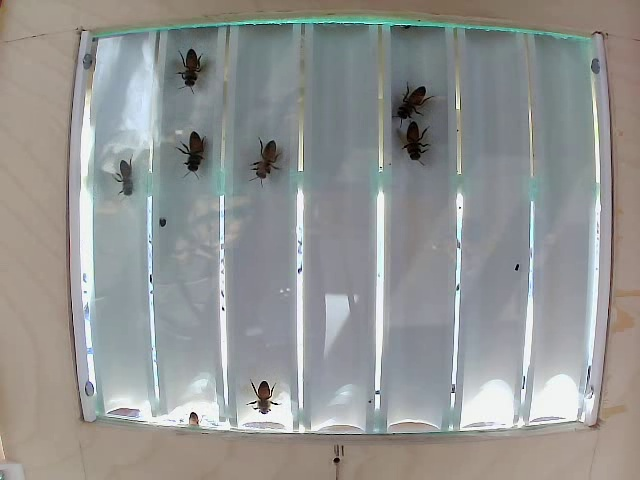bee: (389, 109, 427, 164), (185, 128, 222, 177), (256, 139, 292, 189), (396, 76, 428, 128), (250, 374, 289, 414), (110, 160, 146, 190), (177, 47, 198, 85)
